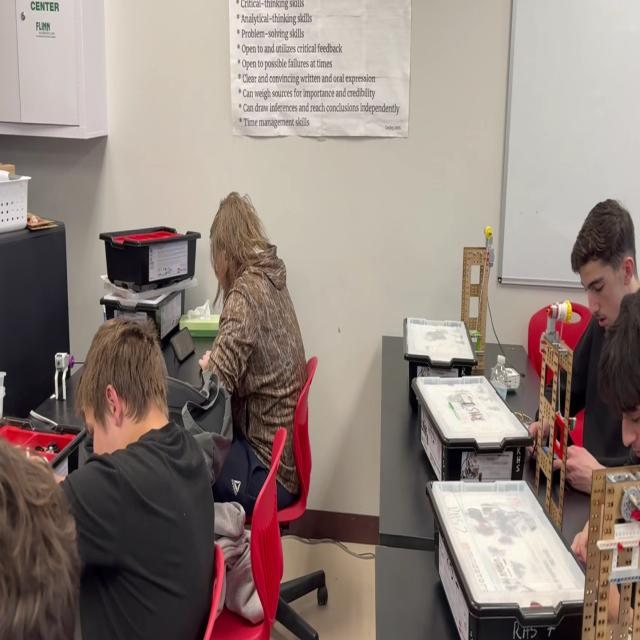pen: (169, 326, 196, 365), (537, 441, 575, 468)
